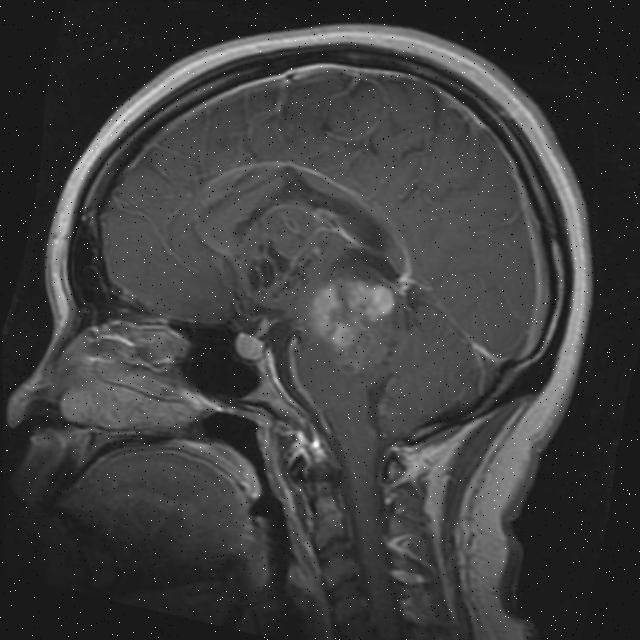Glioma: (301, 269, 401, 361)
Pituitary: (230, 329, 267, 362)
